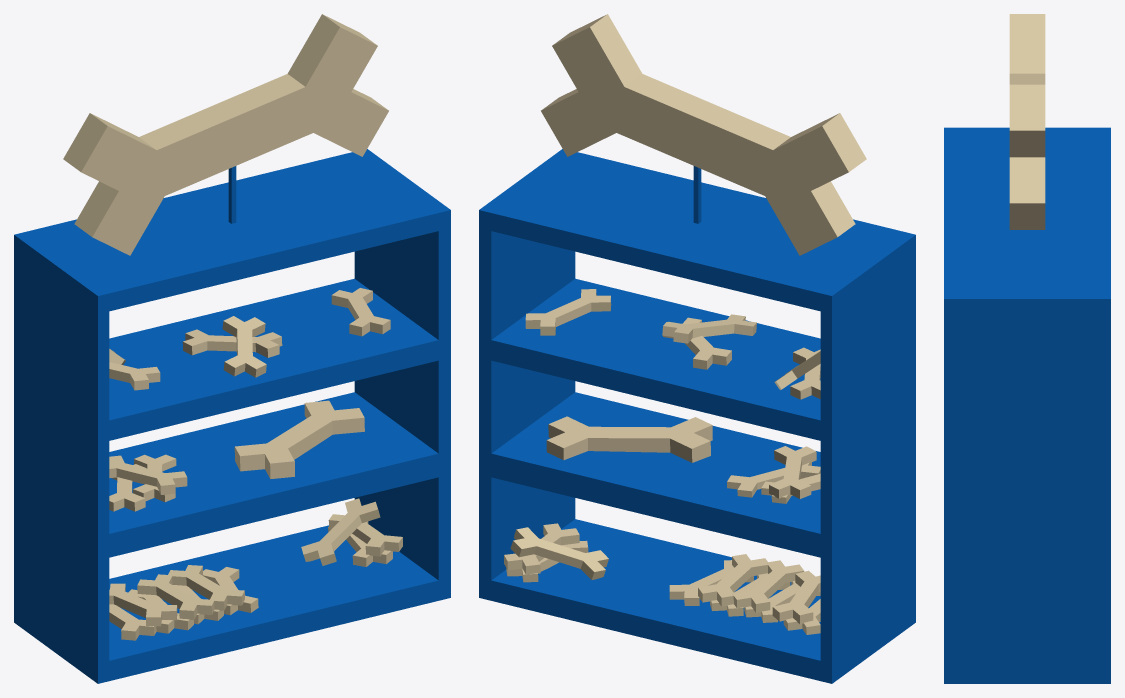
The model's file is BoneSpawner.fbx.
3 views of the same model, side by side, from view 1: azimuth 30°, elevation 25°; view 2: azimuth 150°, elevation 25°; view 3: azimuth 270°, elevation 25° (orthographic).
Parts seen in each view (by area): view 1: shelf_geo, treats_ver005:boneMiddle_geo, treats_ver005:boneEnd_2_geo, treats_ver005:boneEnd_1_geo, boneEnd_2_geo (×3), boneEnd_1_geo (×2), boneMiddle_geo (×2); view 2: shelf_geo, treats_ver005:boneMiddle_geo, treats_ver005:boneEnd_2_geo, treats_ver005:boneEnd_1_geo, boneEnd_1_geo (×5), boneMiddle_geo (×2), boneEnd_2_geo (×2); view 3: shelf_geo, treats_ver005:boneEnd_1_geo, treats_ver005:boneEnd_2_geo, treats_ver005:boneMiddle_geo.
Boxes of the visible parts, box(x1,y1,x2,y2) form: shelf_geo: box(14, 149, 450, 683); treats_ver005:boneMiddle_geo: box(139, 74, 312, 195); treats_ver005:boneEnd_2_geo: box(63, 113, 183, 255); treats_ver005:boneEnd_1_geo: box(287, 14, 388, 156); boneEnd_2_geo (×3): box(223, 351, 364, 565); boneEnd_1_geo (×2): box(234, 314, 390, 478); boneMiddle_geo (×2): box(267, 415, 361, 551); shelf_geo: box(479, 149, 915, 683); treats_ver005:boneMiddle_geo: box(617, 74, 790, 195); treats_ver005:boneEnd_2_geo: box(746, 113, 866, 255); treats_ver005:boneEnd_1_geo: box(541, 14, 642, 156); boneEnd_1_geo (×5): box(510, 417, 813, 624); boneMiddle_geo (×2): box(534, 426, 670, 568); boneEnd_2_geo (×2): box(546, 346, 731, 460); shelf_geo: box(944, 127, 1110, 683); treats_ver005:boneEnd_1_geo: box(1009, 84, 1045, 229); treats_ver005:boneEnd_2_geo: box(1009, 14, 1045, 73); treats_ver005:boneMiddle_geo: box(1009, 73, 1045, 84).
Bounding box in the file's own units: 5.76 × 8.81 × 2.37.
